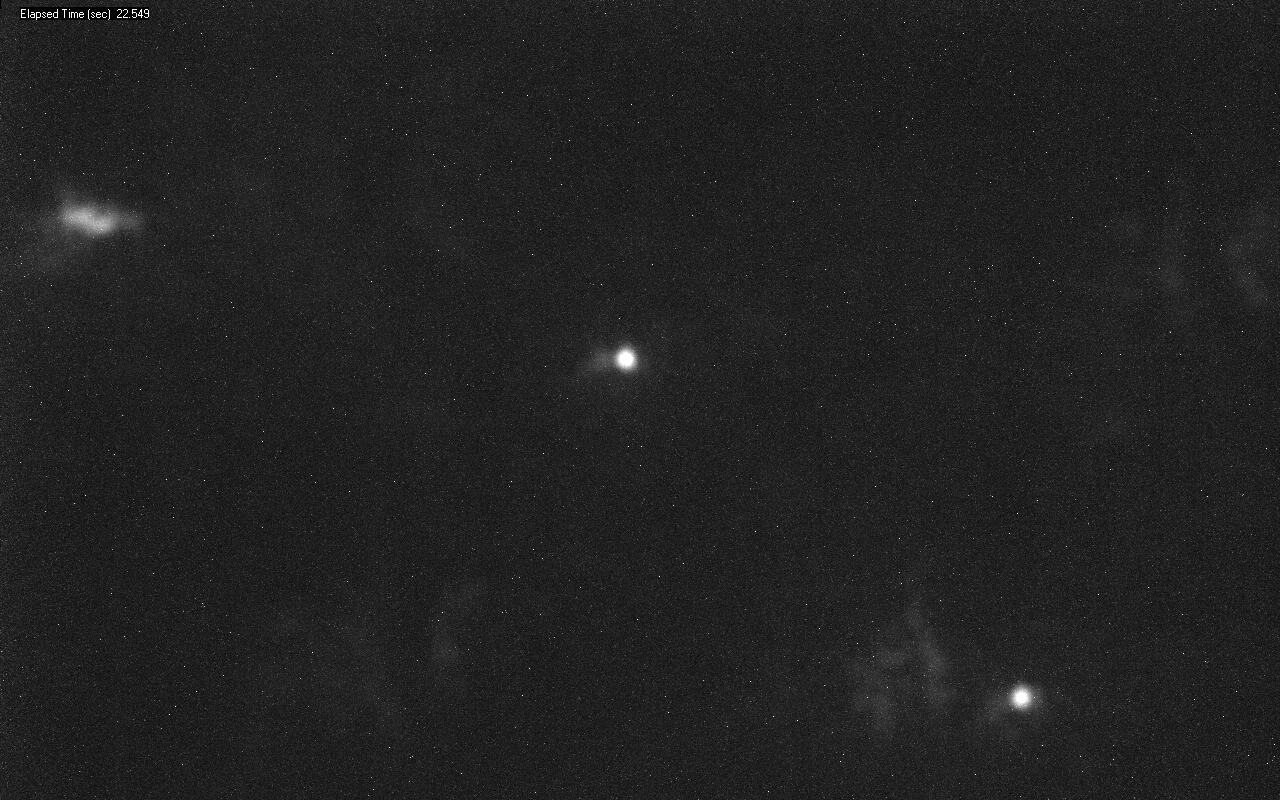Bead: (614, 347, 636, 371), (1010, 687, 1031, 708)
